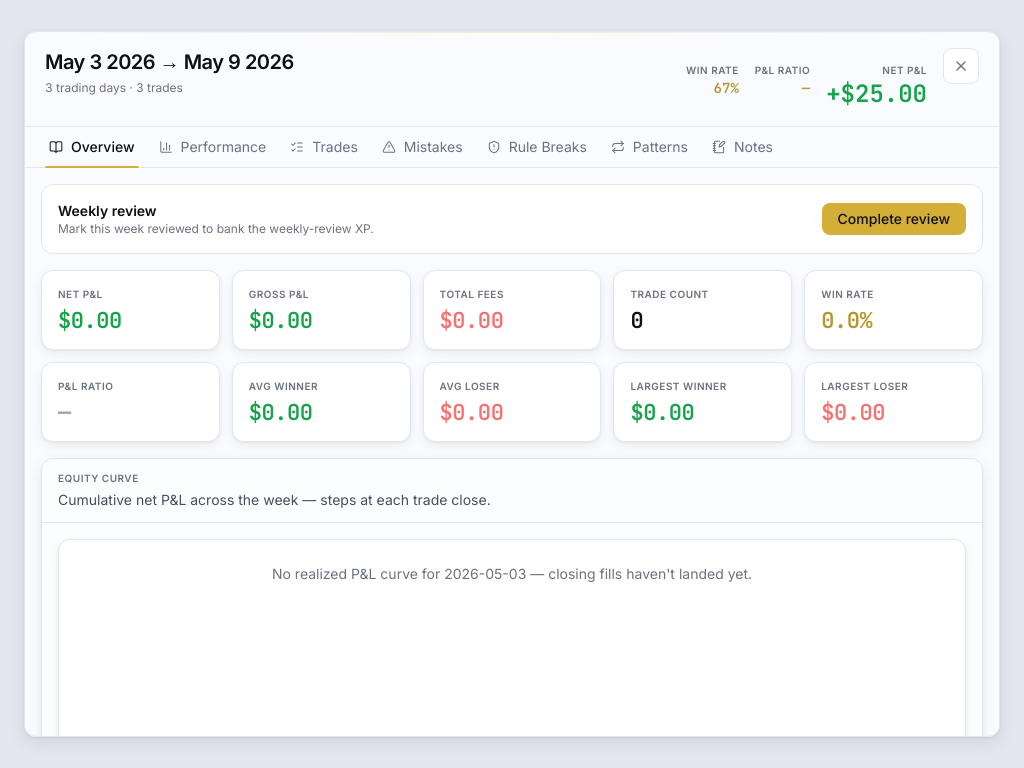
Test: Dave #17 — trade cycling in the stacked modal › (4) WEEK GROUPED: cycling crosses a group boundary into a COLLAPSED group, canonical order
Expected: the text "3 trading days · 3 trades" is shown, x1=45 y1=80 x2=183 y2=95
Click the tab "Trades".
click(324, 147)  # box x1=278 y1=127 x2=370 y2=167
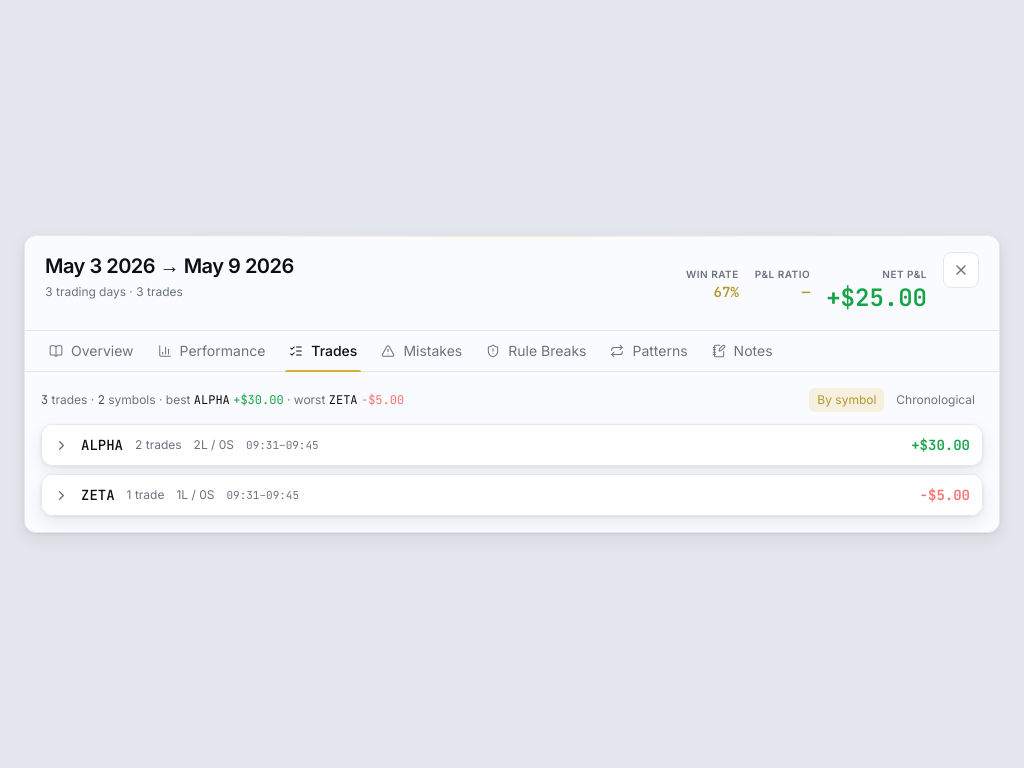
Click the button "ALPHA 2 trades 2L / 0S 09:31–09:45 +$30.00".
click(102, 445)  # box x1=42 y1=425 x2=982 y2=465
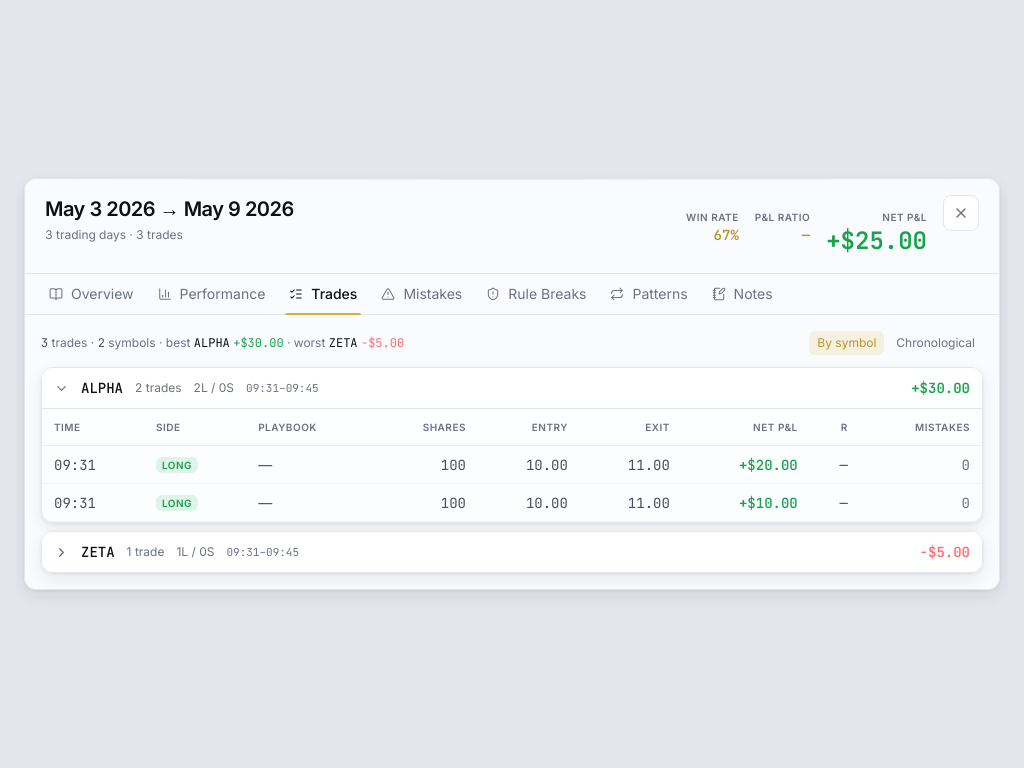
Result: the text "ALPHA" next to "· best" is shown at x1=194 y1=335 x2=230 y2=351
Click the text "+$10.00".
click(746, 502)  # box x1=682 y1=484 x2=810 y2=522
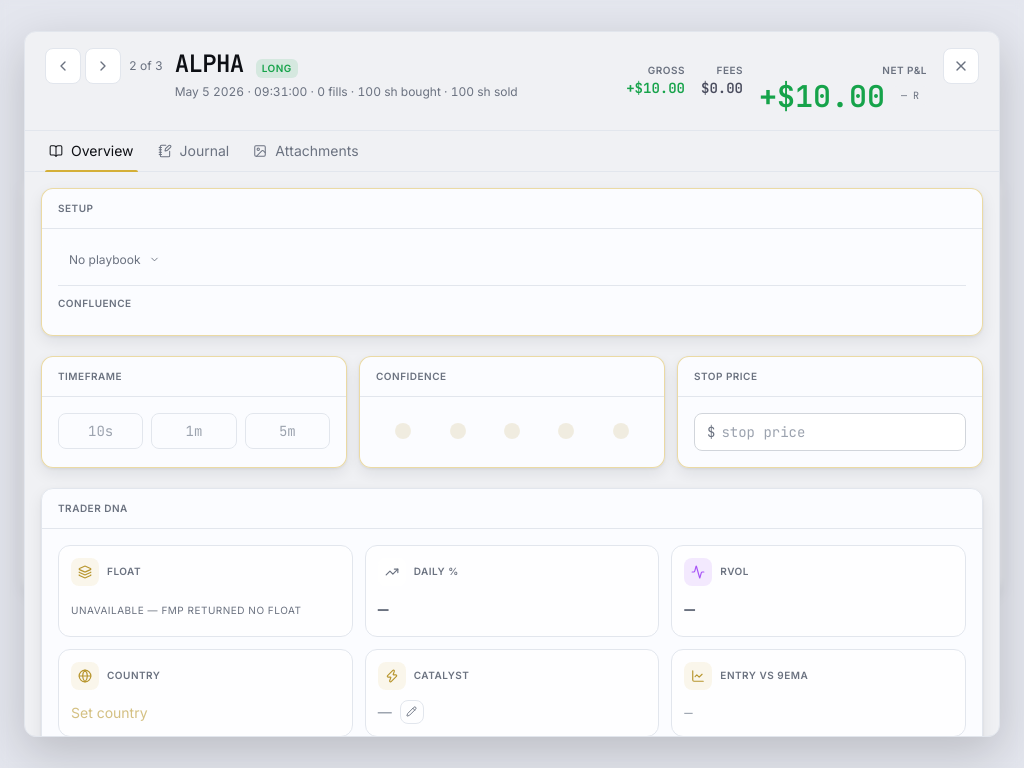
Result: the text "ALPHA" is shown at x1=194 y1=335 x2=230 y2=351
Result: the text "2 of 3" is shown at x1=129 y1=58 x2=163 y2=74
Press ArrowRight
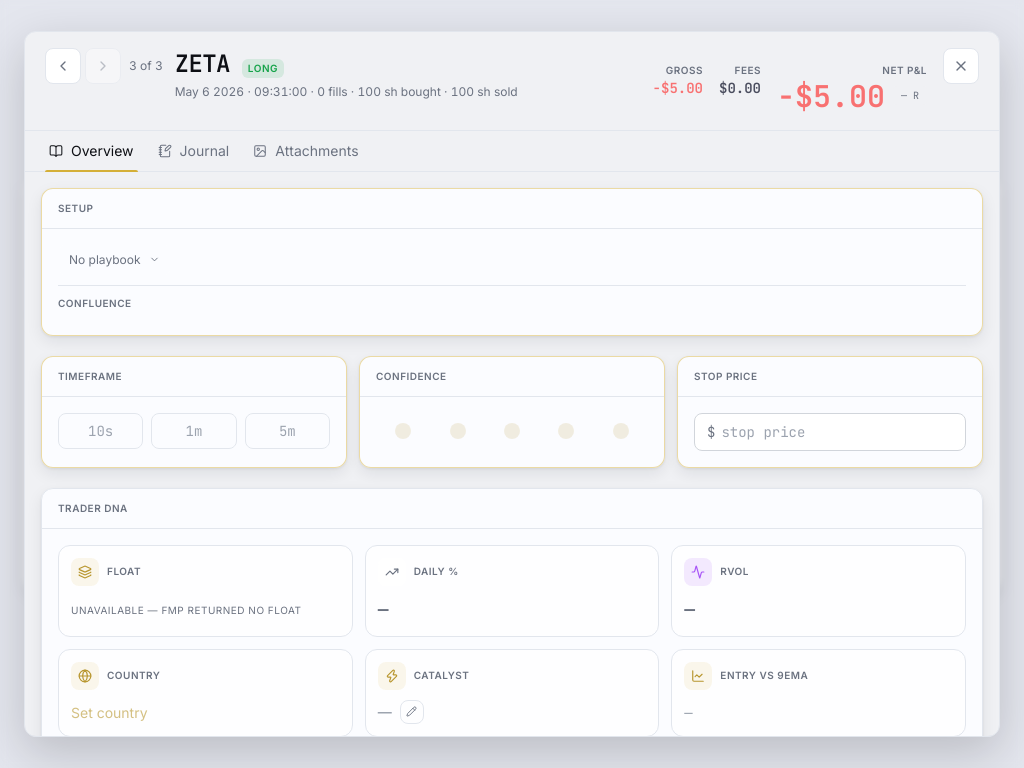
Result: the text "ZETA" is shown at x1=329 y1=335 x2=358 y2=351
Result: the text "3 of 3" is shown at x1=129 y1=58 x2=163 y2=74
